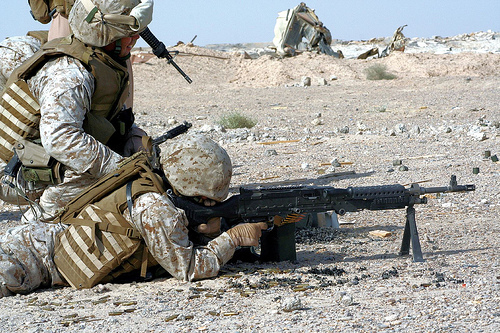rifle: (264, 187, 468, 214)
rifle in hand: (207, 184, 475, 276)
